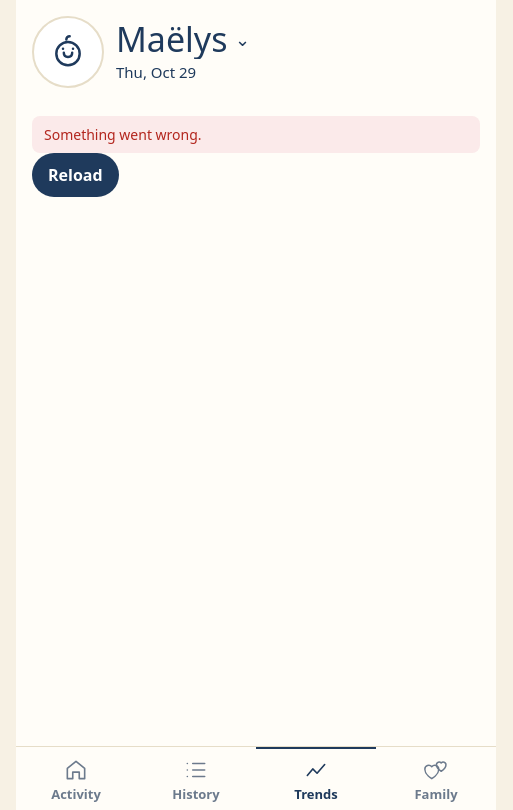
Scenario: Layout › keeps the header and tab bar when a screen fails, and lets another tab load
expect the message "Something went wrong." is shown: met, box [32,116,480,153]
Click the link "History" at coordinates (196, 780), box [172,756,220,802]
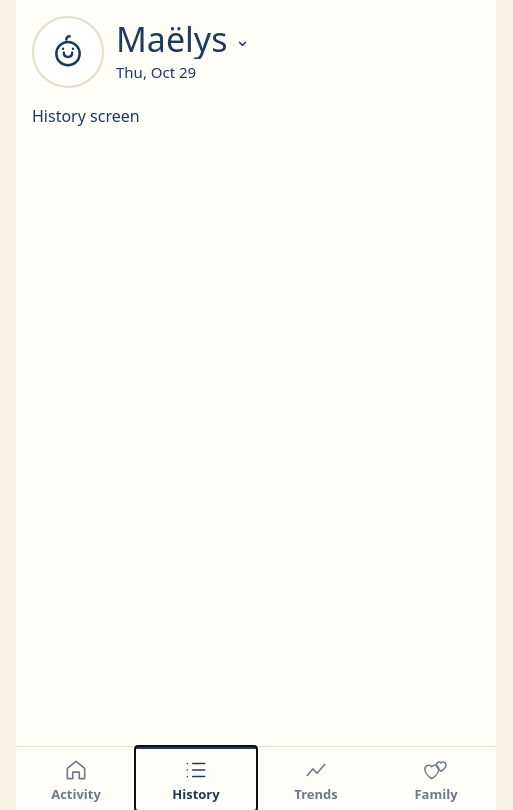
expect the message "Something went wrong." is gone: met
expect the text "History screen" is shown: met, box [32,105,140,127]
